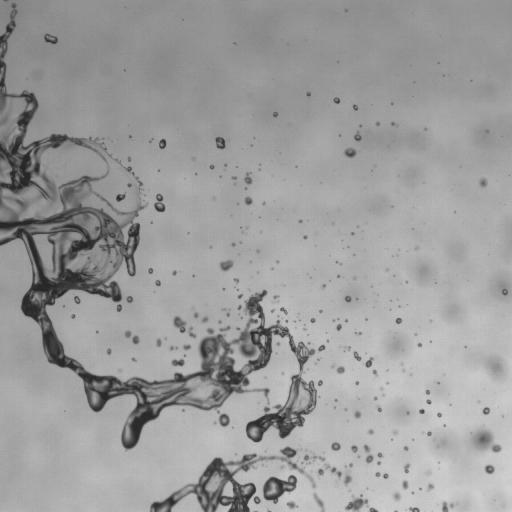droplet: (262, 475, 296, 503), (473, 429, 501, 452), (485, 356, 506, 379), (154, 193, 165, 212), (219, 260, 233, 271), (442, 501, 454, 511), (44, 34, 57, 43), (171, 357, 184, 366), (215, 137, 225, 148), (344, 148, 356, 157), (484, 464, 494, 474), (364, 357, 373, 367), (244, 172, 251, 184), (115, 193, 125, 201), (353, 351, 361, 361), (479, 178, 487, 187), (244, 196, 252, 205), (331, 442, 340, 450), (287, 501, 297, 508), (159, 139, 166, 148), (354, 132, 361, 140), (336, 366, 344, 373), (482, 407, 490, 414), (393, 492, 400, 500), (402, 480, 408, 489), (280, 307, 287, 314), (354, 411, 361, 418), (183, 344, 191, 350), (404, 464, 409, 473), (74, 296, 80, 303), (318, 345, 325, 351), (351, 445, 357, 452), (156, 338, 161, 346), (126, 296, 132, 302), (427, 484, 433, 490), (273, 295, 278, 302), (372, 369, 377, 376), (334, 97, 339, 103), (345, 296, 350, 302), (396, 318, 401, 324), (336, 324, 341, 330), (170, 346, 177, 350), (148, 268, 153, 273), (155, 280, 160, 285), (502, 289, 507, 294), (202, 317, 207, 322), (426, 399, 431, 404), (376, 406, 381, 411), (368, 429, 373, 434), (377, 452, 382, 457), (426, 470, 431, 475), (383, 473, 388, 478), (353, 105, 357, 110), (234, 278, 239, 282), (194, 312, 198, 317), (310, 318, 315, 322), (345, 346, 350, 350), (107, 349, 111, 354), (318, 380, 322, 385), (419, 409, 424, 413), (437, 412, 441, 417), (375, 472, 380, 476), (273, 112, 277, 116), (210, 165, 214, 169), (303, 235, 307, 239), (238, 294, 242, 298), (71, 314, 75, 318), (356, 331, 360, 335), (393, 430, 397, 434), (427, 431, 431, 435), (403, 446, 407, 450), (348, 463, 352, 467), (172, 271, 176, 274), (226, 311, 229, 315), (418, 343, 421, 347), (132, 357, 135, 361), (426, 390, 429, 394), (373, 396, 376, 400), (307, 92, 310, 95), (391, 122, 394, 125), (322, 285, 325, 288), (271, 309, 274, 312), (276, 342, 279, 345), (377, 461, 380, 464), (376, 123, 379, 125), (233, 176, 235, 179), (355, 382, 358, 384), (299, 220, 301, 222), (232, 244, 234, 246), (415, 247, 417, 249), (345, 319, 347, 321), (407, 412, 409, 414), (281, 466, 283, 468)
ligament: (0, 3, 315, 450), (149, 446, 351, 511), (345, 495, 378, 511), (173, 316, 196, 338), (313, 493, 325, 511), (125, 330, 139, 344), (364, 445, 373, 463), (112, 157, 120, 164), (409, 507, 419, 511), (253, 510, 257, 511), (267, 510, 270, 511)
